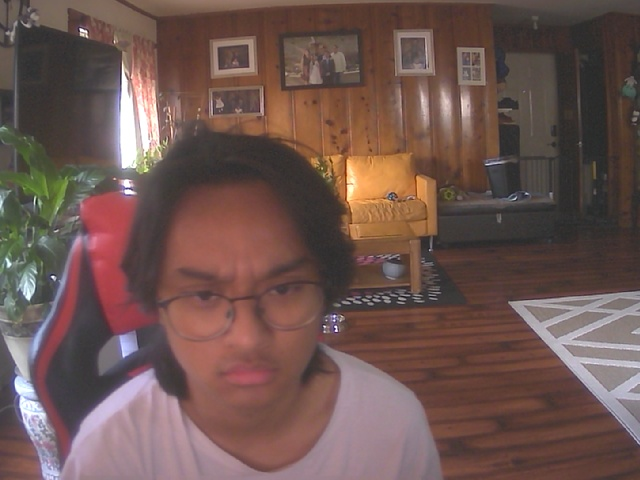anger: (142, 159, 339, 416)
